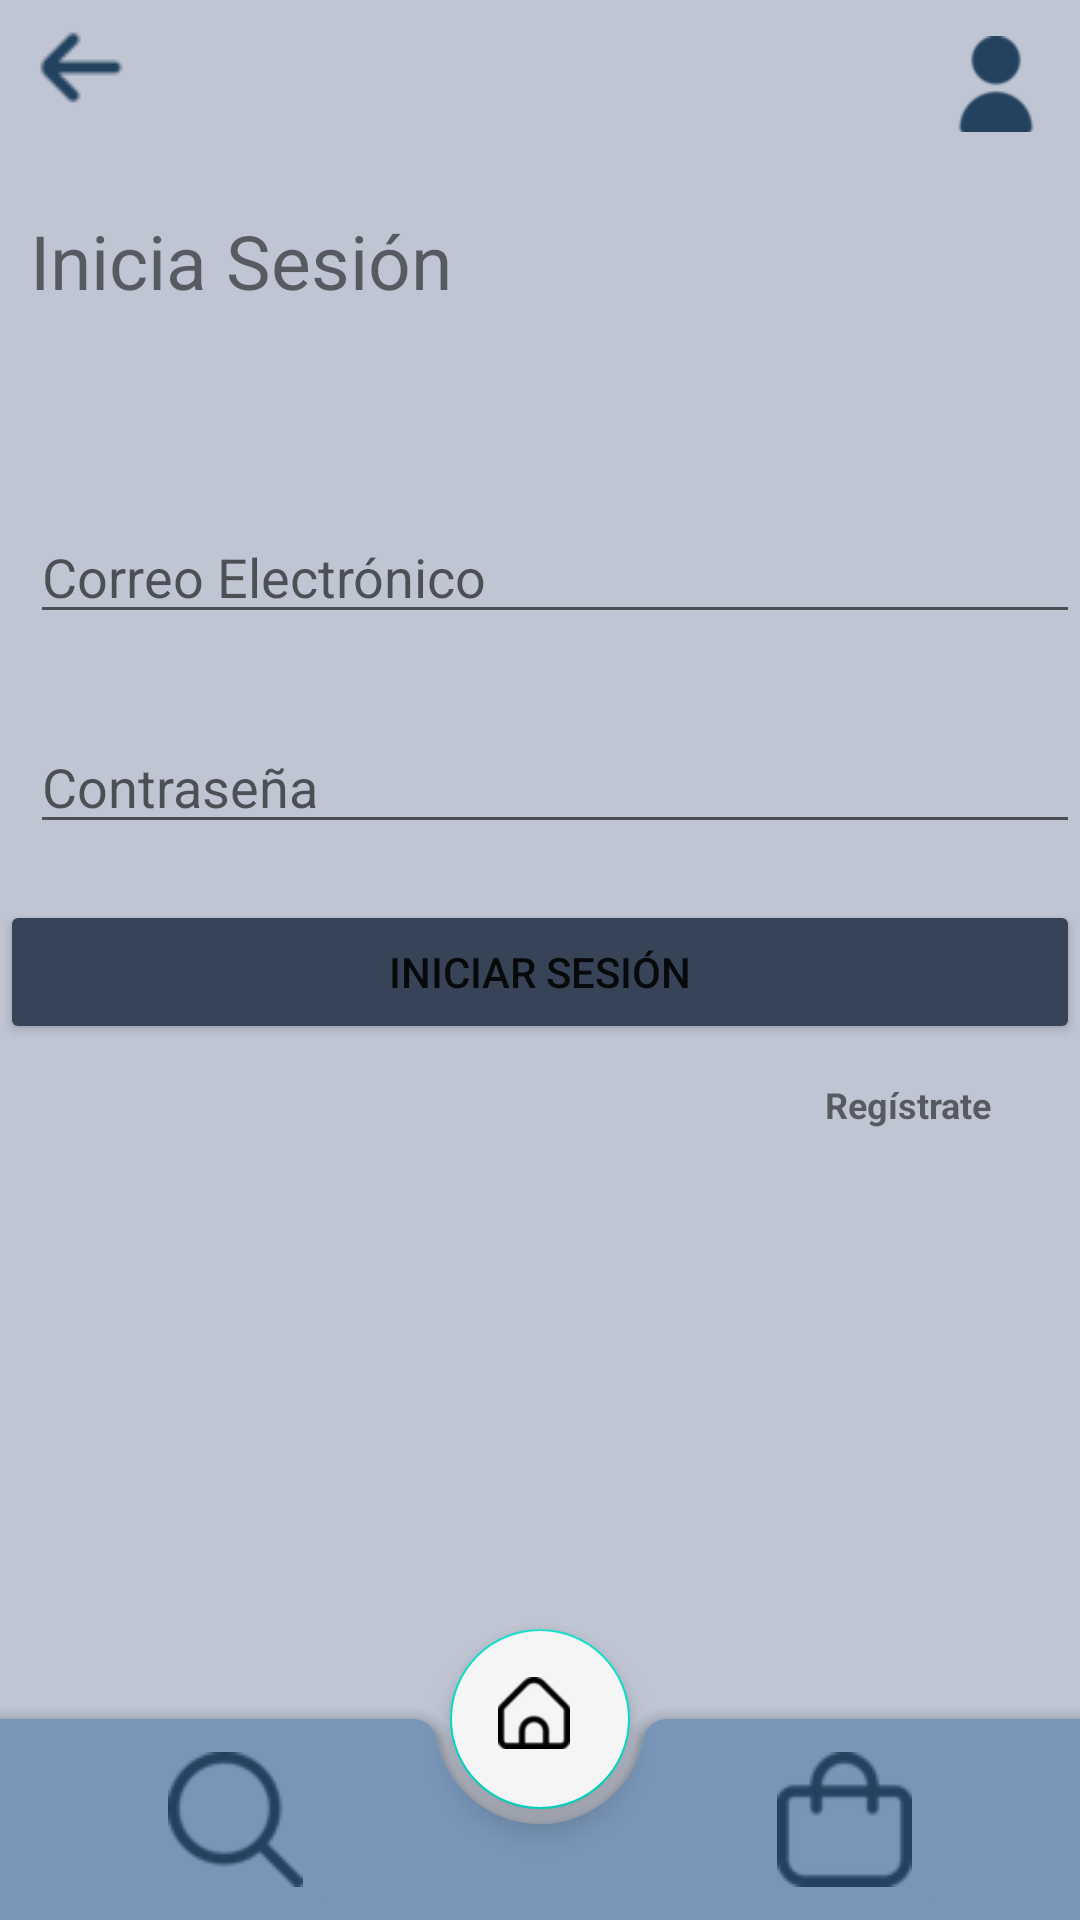

Icon click points for this 1080 x 1920 phone screenshot, format (x,y):
back: (81,67)
home: (540,1719)
store: (844,1819)
